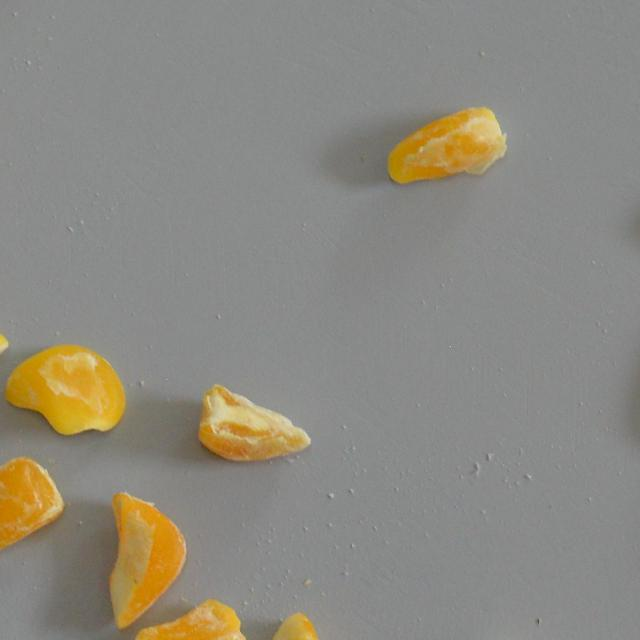pelicula: (4, 340, 126, 439), (385, 106, 505, 185), (196, 382, 312, 463), (0, 454, 64, 555), (130, 598, 250, 640), (260, 612, 348, 640), (462, 623, 538, 640)
punto_negro: (106, 488, 190, 630)
